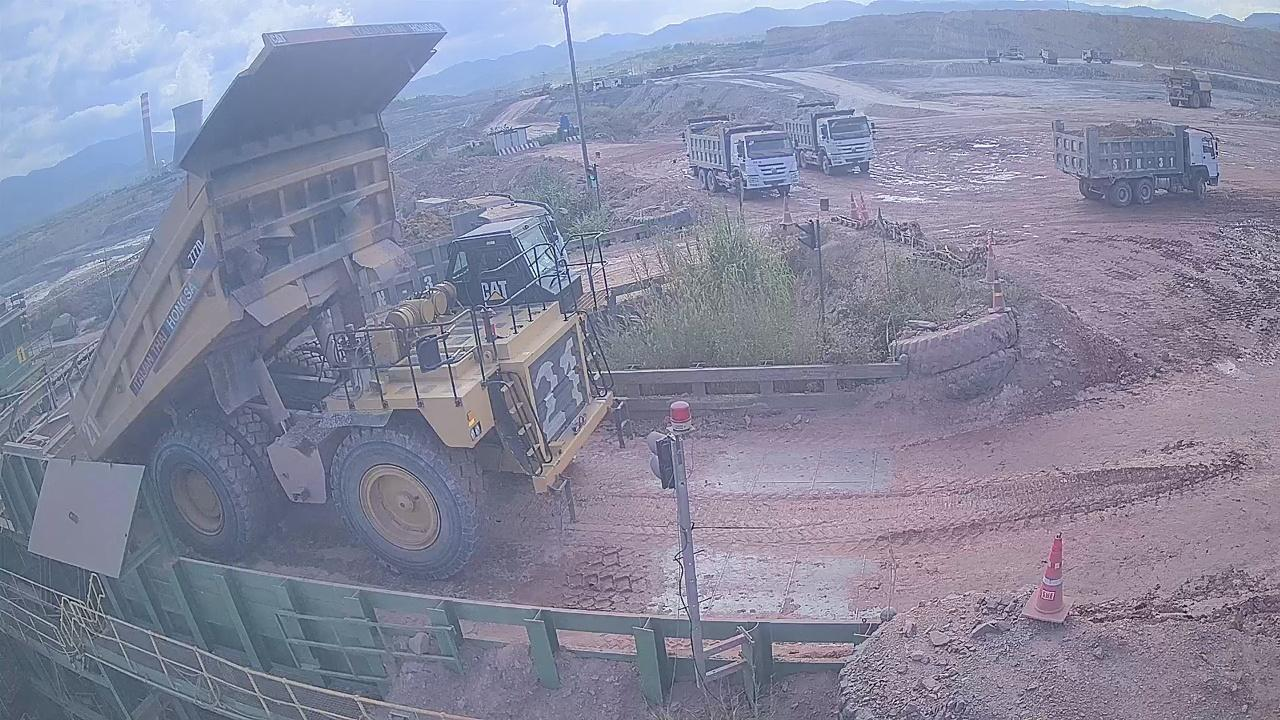company: (132, 280, 201, 401)
dumping_soil: (74, 22, 637, 582)
front_number: (523, 322, 592, 443)
tail_number: (78, 410, 107, 458)
truck_size: (180, 231, 207, 272)
